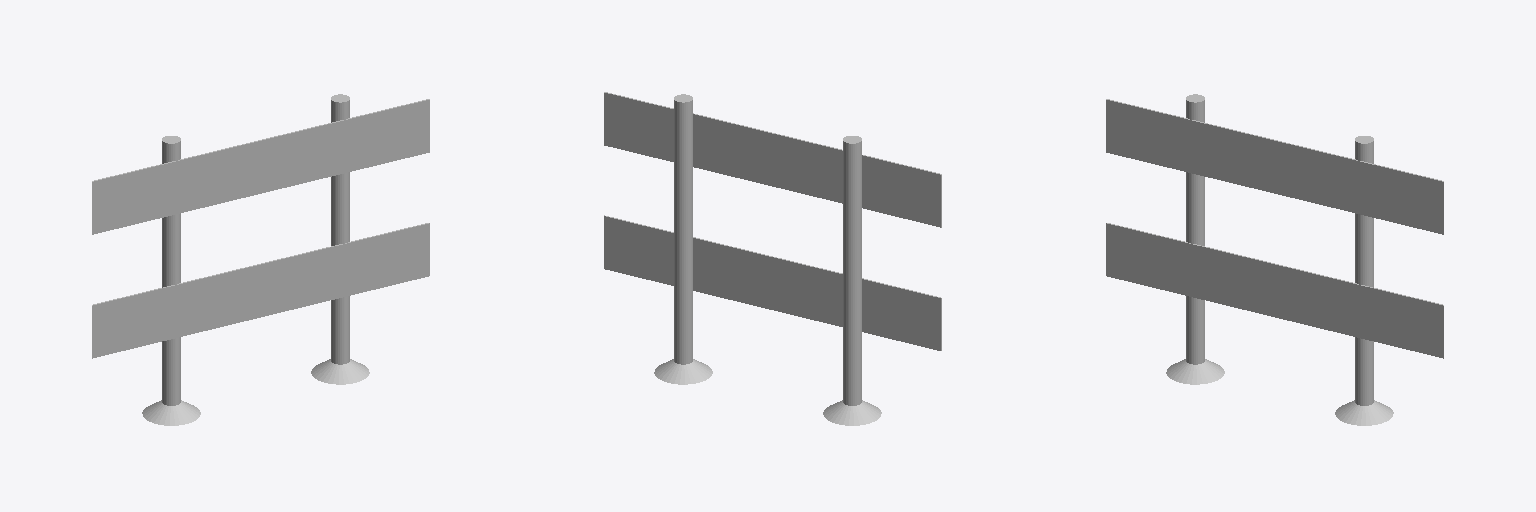
Rendered from road-block-new.obj.
3 renders of one model, left to right at view 1: azimuth 30°, elevation 25°; view 2: azimuth 150°, elevation 25°; view 3: azimuth 330°, elevation 25°, orthographic.
Parts seen in each view (by area): view 1: Cube.001_Cube.002; view 2: Cube.001_Cube.002; view 3: Cube.001_Cube.002.
Boxes of the visible parts, box(x1,y1,x2,y2) form: Cube.001_Cube.002: box(92, 94, 429, 425); Cube.001_Cube.002: box(604, 92, 941, 425); Cube.001_Cube.002: box(1106, 94, 1443, 425).
Bounding box in the file's own units: 2 × 1.55 × 0.3.